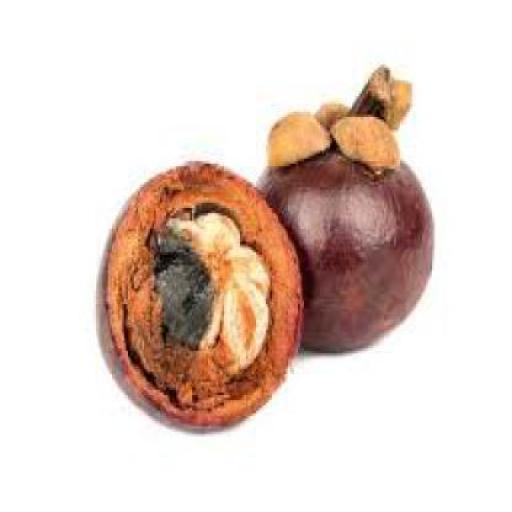biodegradable: (94, 159, 300, 428), (252, 62, 432, 352), (152, 206, 266, 376), (220, 276, 266, 369)
